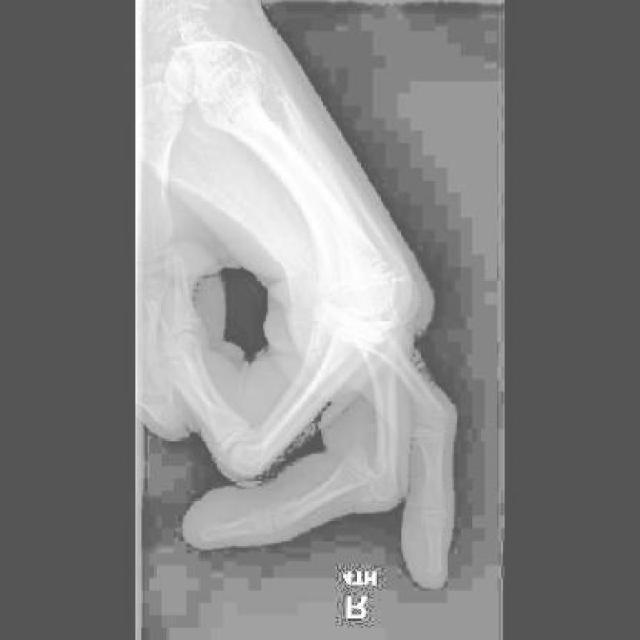Fracture: (342, 449, 393, 511)
